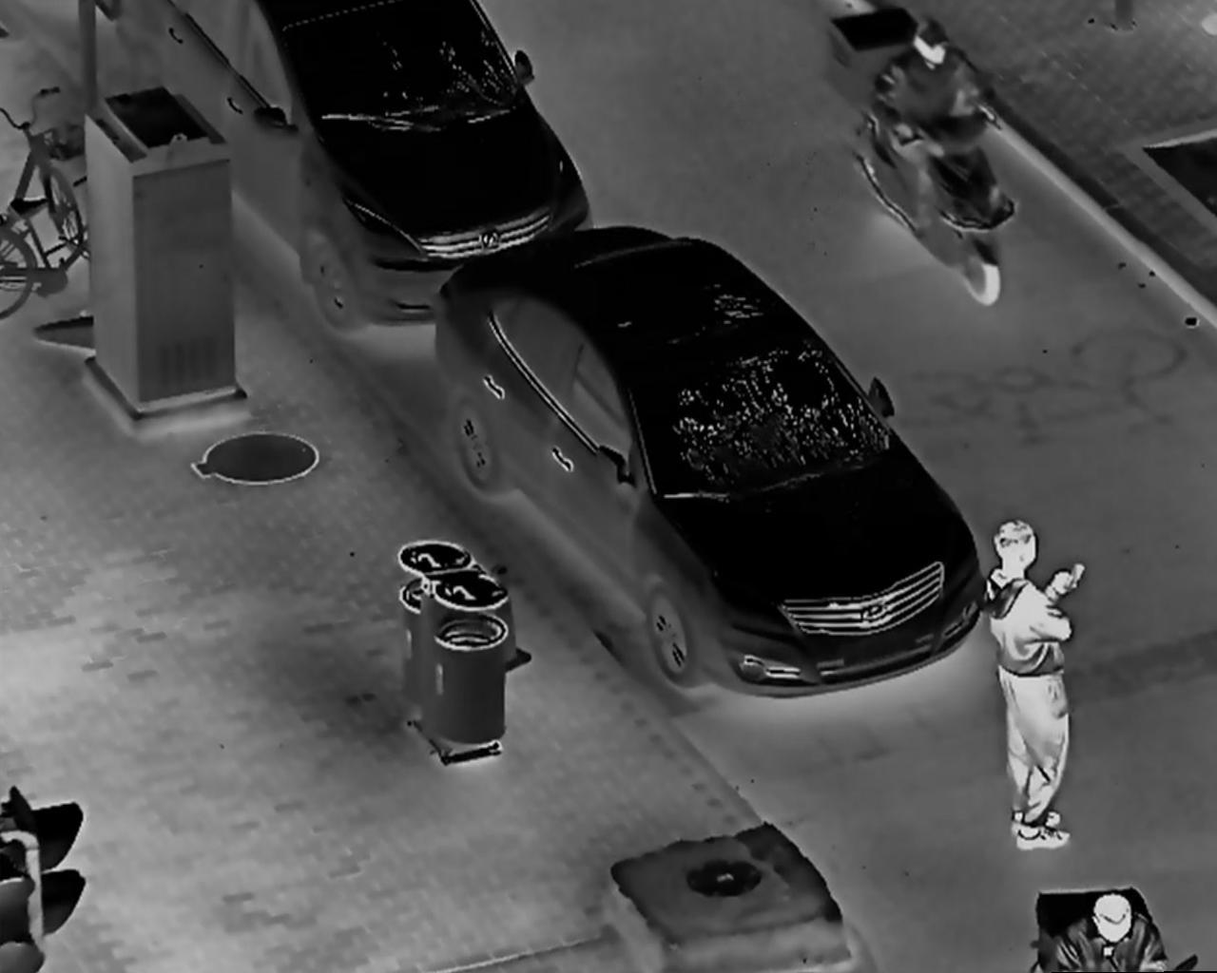person: (978, 514, 1111, 853), (867, 14, 1003, 261), (1032, 889, 1169, 973)
